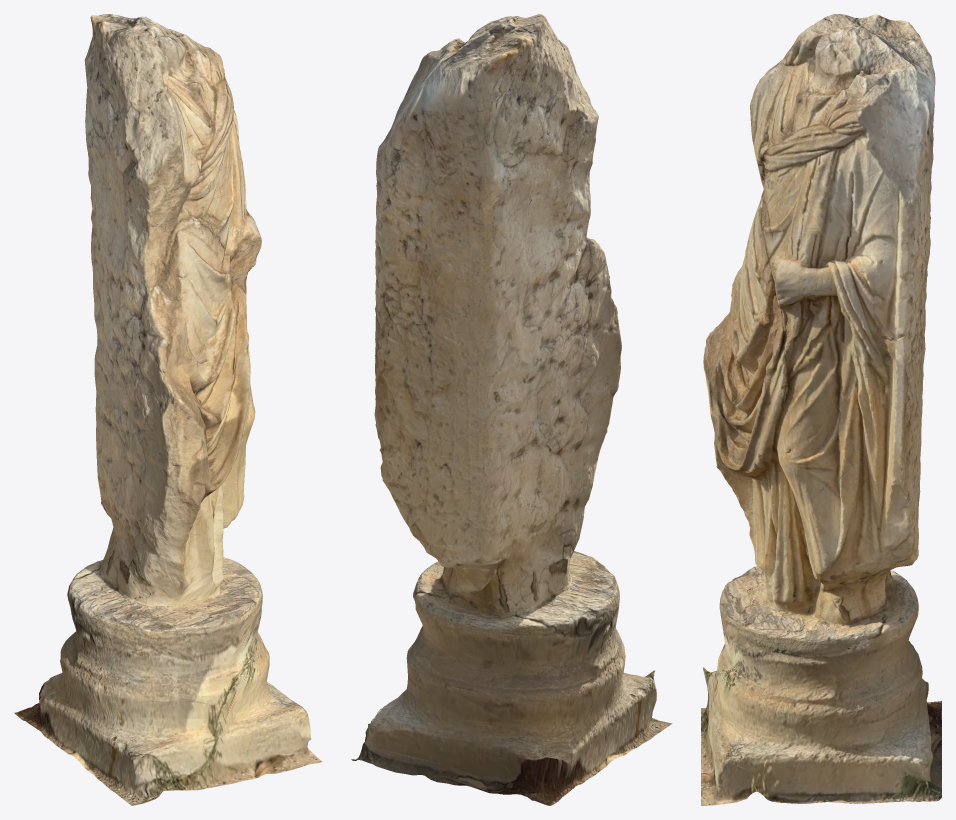
File: roman-draped-statue-byrsa-hill-carthage.glb
3 views of the same model, side by side, from view 1: azimuth 30°, elevation 25°; view 2: azimuth 150°, elevation 25°; view 3: azimuth 270°, elevation 25° (orthographic). The views are drawn at different scales.
Visible parts, largest first — view 1: Object_3; view 2: Object_3; view 3: Object_3.
Boxes of the visible parts, box(x1,y1,x2,y2) form: Object_3: box(14, 14, 322, 805); Object_3: box(351, 14, 672, 805); Object_3: box(701, 14, 941, 805).
Bounding box in the file's own units: 0.5373 × 1.91 × 0.5738.
1 material, 1 textured.
